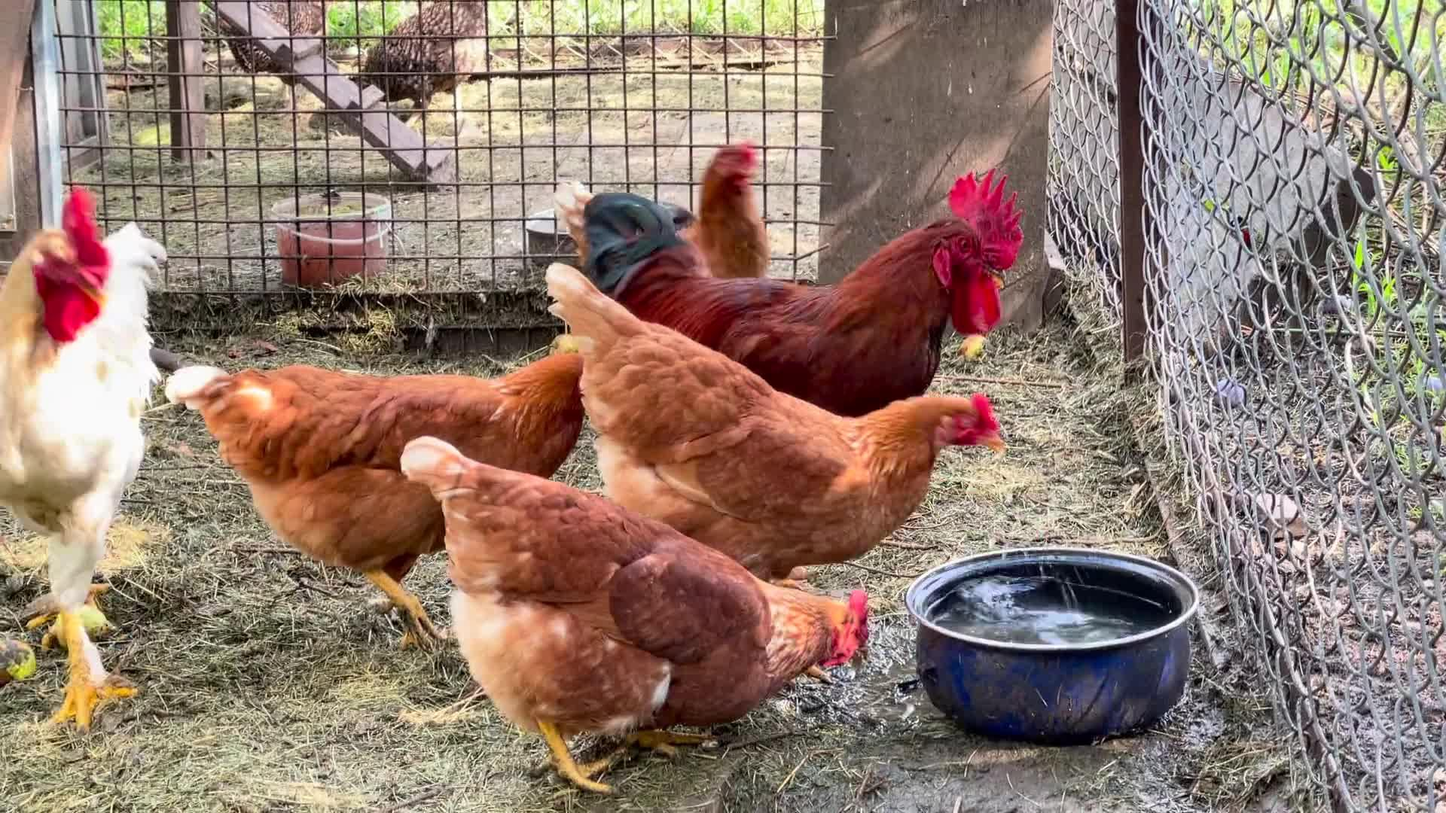Normal: (392, 424, 873, 795), (539, 249, 1010, 598), (177, 339, 594, 645), (573, 172, 1031, 428), (2, 164, 174, 735), (529, 138, 769, 346)
